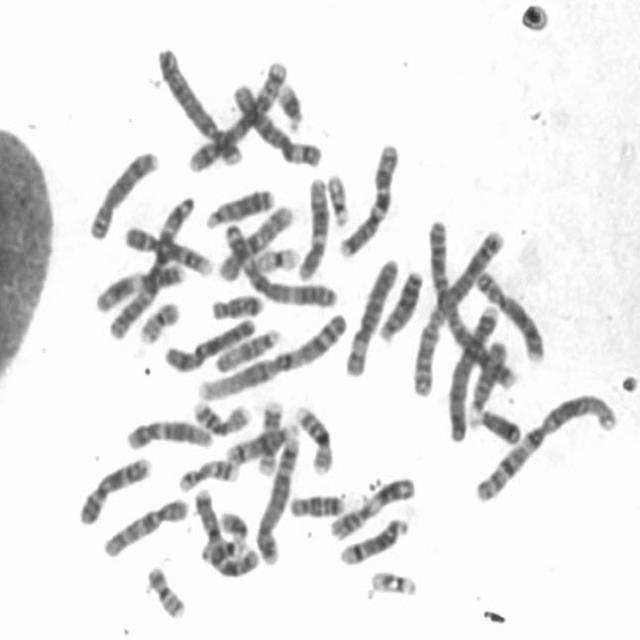A1: (470, 393, 617, 507), (196, 311, 349, 401)
A2: (408, 228, 506, 398), (427, 218, 518, 390)
A3: (106, 194, 197, 344), (224, 222, 338, 311)
B4: (156, 46, 245, 169), (444, 304, 500, 444)
B5: (184, 58, 286, 176), (253, 434, 303, 568)
C10: (217, 204, 294, 286), (103, 496, 191, 558)
C11: (328, 477, 417, 542), (91, 261, 187, 314)
C12: (296, 178, 330, 282), (124, 419, 216, 453)
C6: (233, 82, 324, 170), (342, 255, 398, 380)
C7: (339, 142, 398, 259), (193, 488, 262, 581)
C8: (472, 270, 547, 364), (88, 149, 159, 241)
C9: (75, 454, 153, 527), (123, 224, 214, 277)
D13: (376, 268, 424, 342), (201, 190, 276, 231)
D14: (337, 516, 409, 568), (226, 423, 301, 467)
D15: (213, 328, 281, 377), (470, 338, 509, 416)
E16: (294, 404, 335, 477), (190, 400, 252, 438)
E17: (176, 457, 241, 497), (256, 397, 288, 476)
E18: (289, 492, 345, 520), (209, 294, 264, 321)
F19: (199, 537, 249, 567), (254, 247, 302, 274)
F20: (146, 562, 188, 622), (139, 299, 182, 344)
G21: (276, 83, 307, 136), (219, 511, 248, 548)
G22: (368, 570, 421, 600), (327, 174, 349, 226)
X: (164, 316, 255, 374)
Y: (468, 410, 525, 446)
